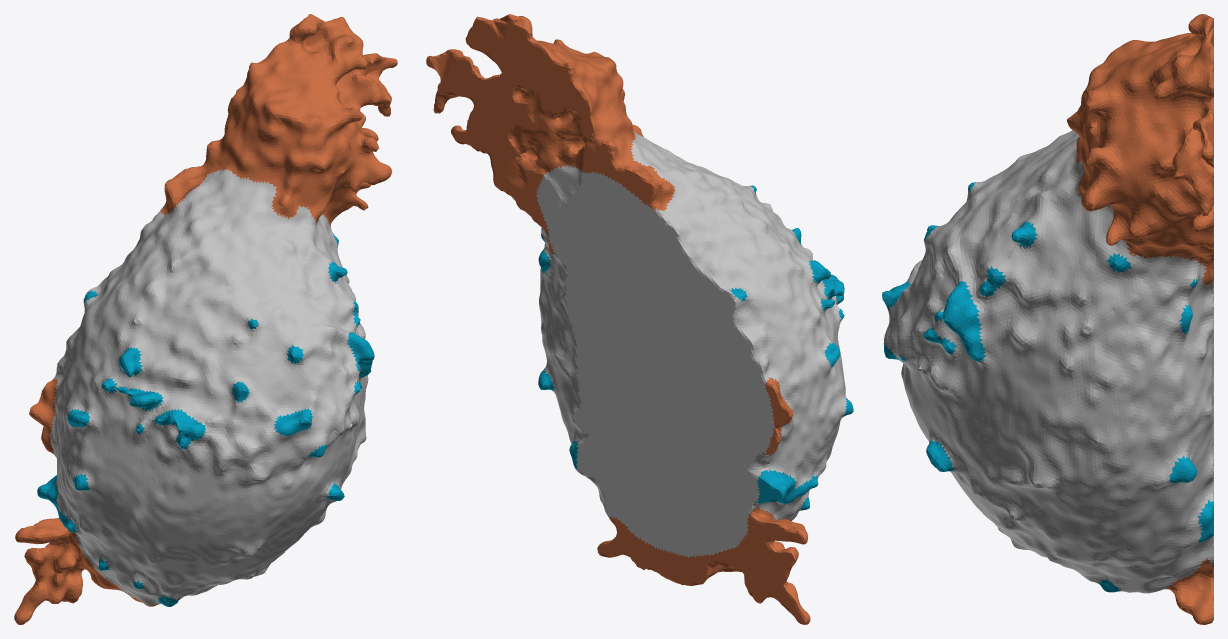
3 renders of one model, left to right at view 1: azimuth 30°, elevation 25°; view 2: azimuth 150°, elevation 25°; view 3: azimuth 270°, elevation 25°, orthographic. The views are drawn at different scales.
Bounding box in the file's own units: 120 × 161 × 70.5.
